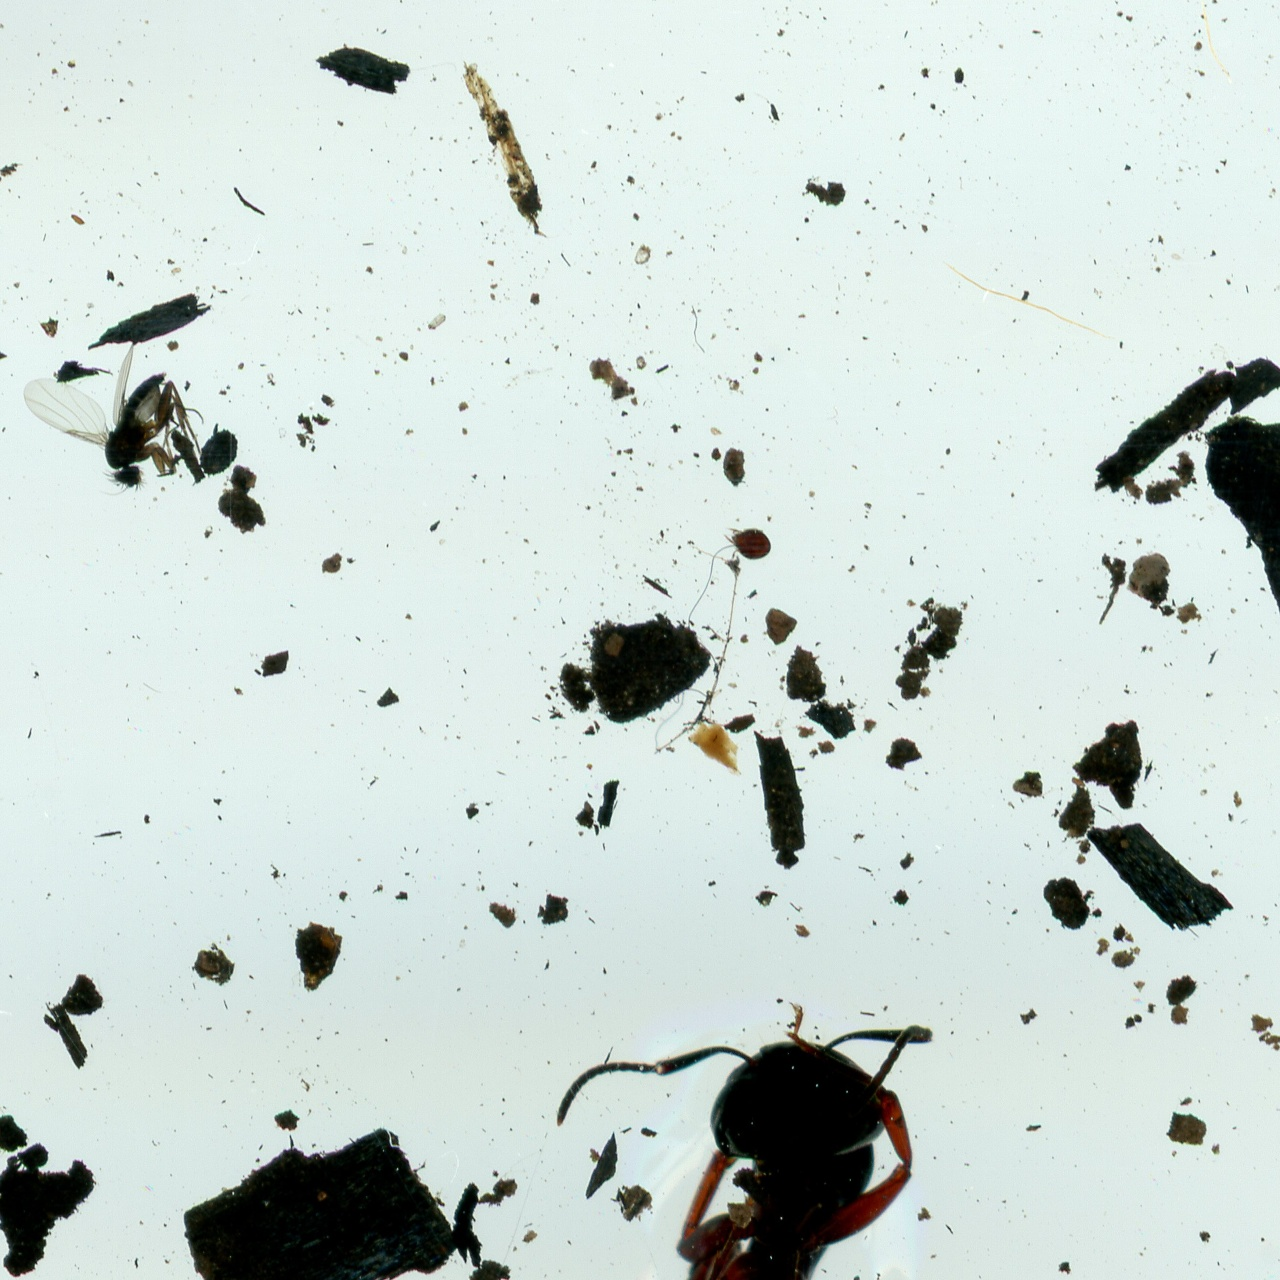arthropod: (542, 999, 937, 1280), (15, 340, 206, 503), (715, 523, 774, 564)
